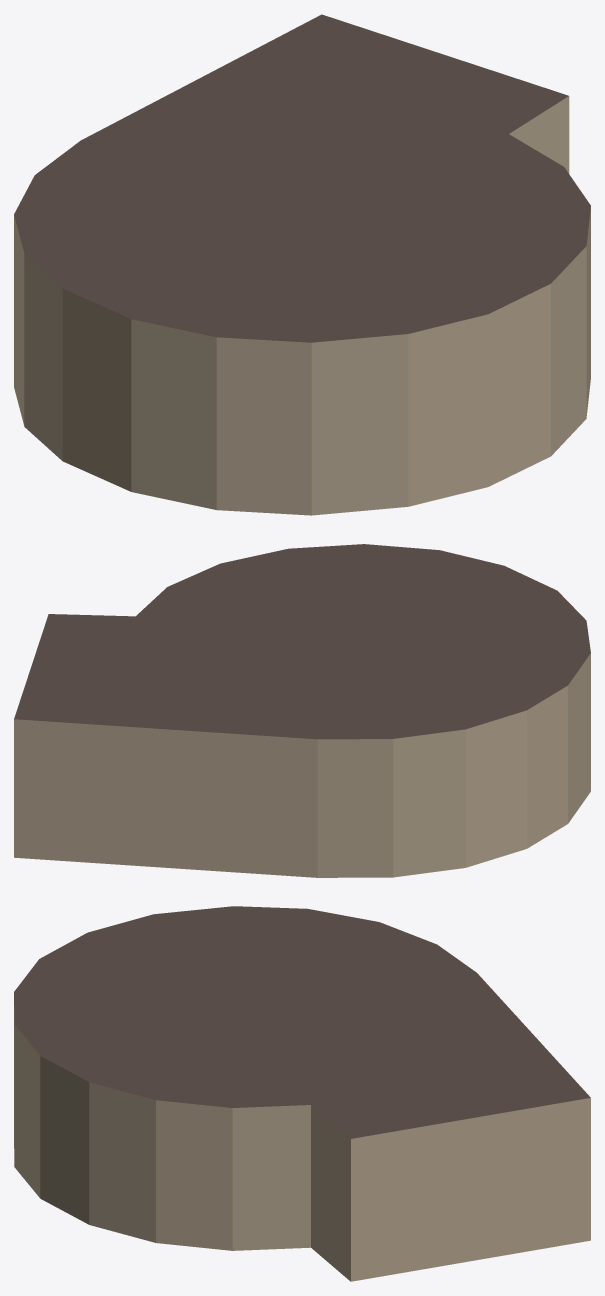
3 views of the same model, one above another, from view 1: azimuth 30°, elevation 25°; view 2: azimuth 150°, elevation 25°; view 3: azimuth 270°, elevation 25° (orthographic). The views are drawn at different scales.
Visible parts, largest first — view 1: HP-w293397522; view 2: HP-w293397522; view 3: HP-w293397522.
Boxes of the visible parts, x1=… form: HP-w293397522: x1=14, y1=14, x2=590, y2=515; HP-w293397522: x1=14, y1=544, x2=590, y2=877; HP-w293397522: x1=14, y1=906, x2=590, y2=1281.
Bounding box in the file's own units: 31.46 × 9 × 32.95.
